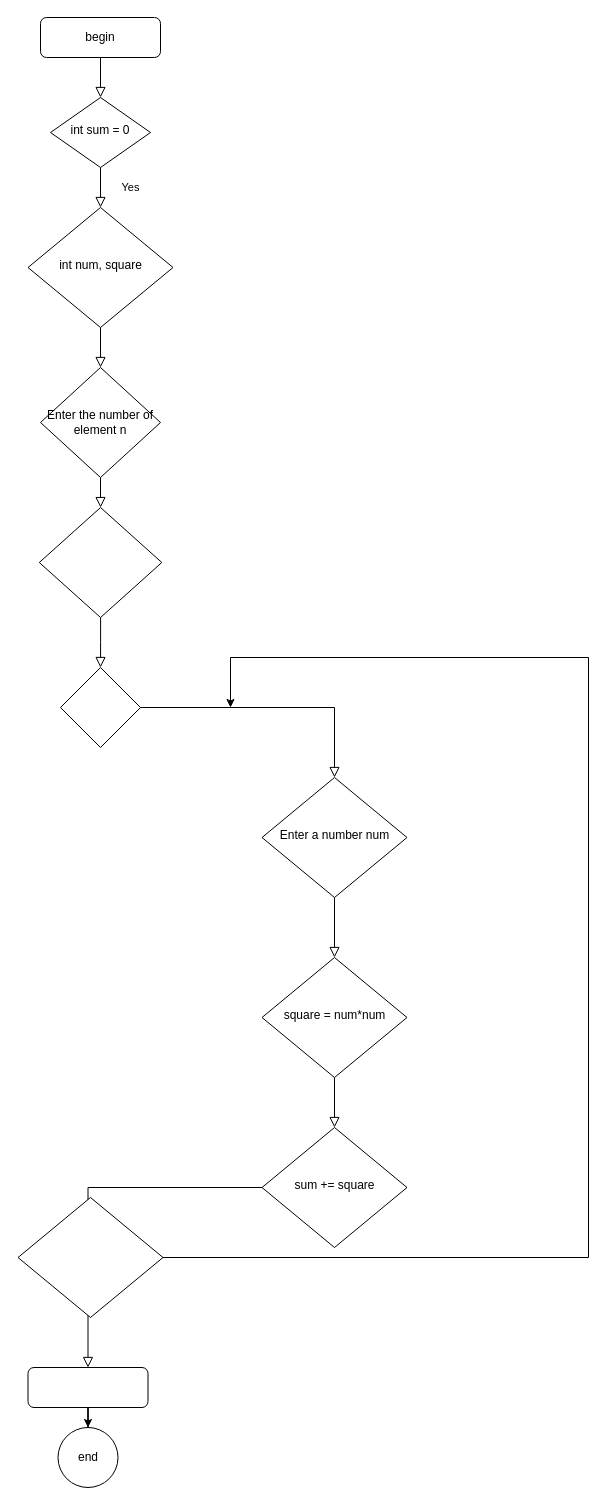
Some shapes in this 614 by 1505 pixel diagram are drawn without their labels. The shapes that lost their labels are listed below. From the top down, each one's centre as x and y in pixels, then its label:
At pixel 100 562: "int i=0".
At pixel 100 707: "i<n".
At pixel 90 1257: "i++".
At pixel 87 1387: "print sum".
